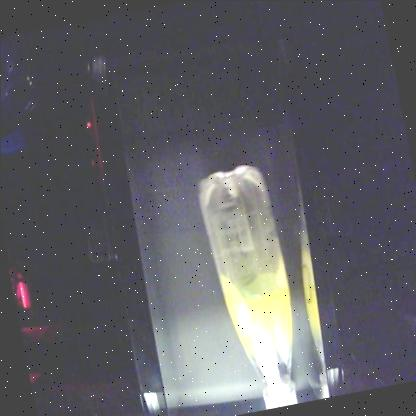Plastic Bottle: (198, 164, 296, 408)
